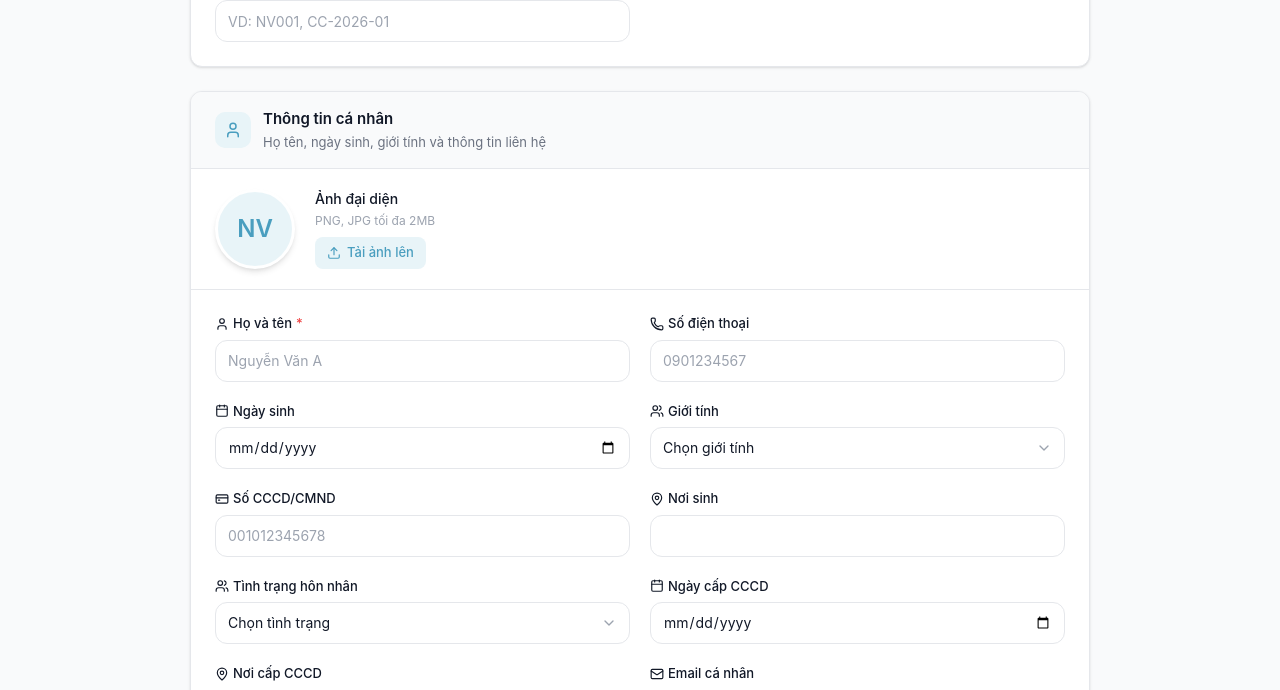
Test case: CreateEmployeePage › Avatar Preview › should show initials based on full name
(page scrolled)
Expected: the text "NV" is shown, [237, 213, 273, 245]
# Type a name
Type "Trần Văn Bình" into the field with placeholder "Nguyễn Văn A" at {"x": 422, "y": 360}, box [215, 340, 630, 382]
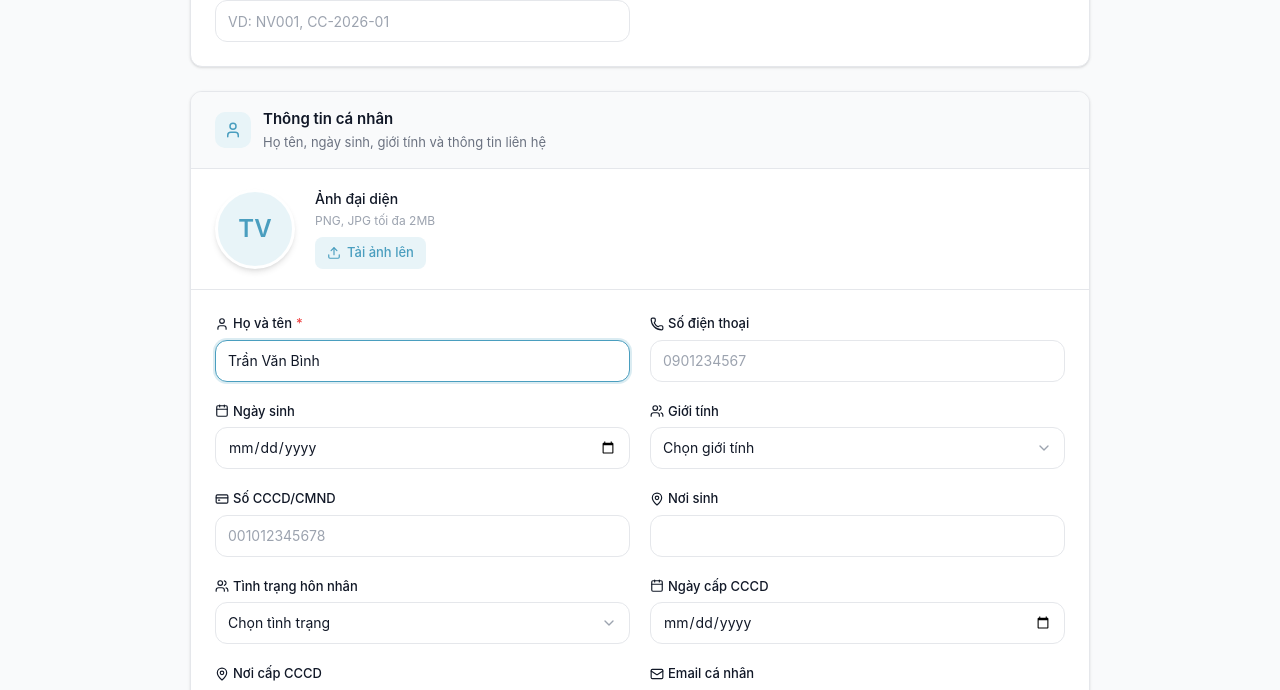
Expected: the text "TV" is shown, [238, 213, 272, 245]
